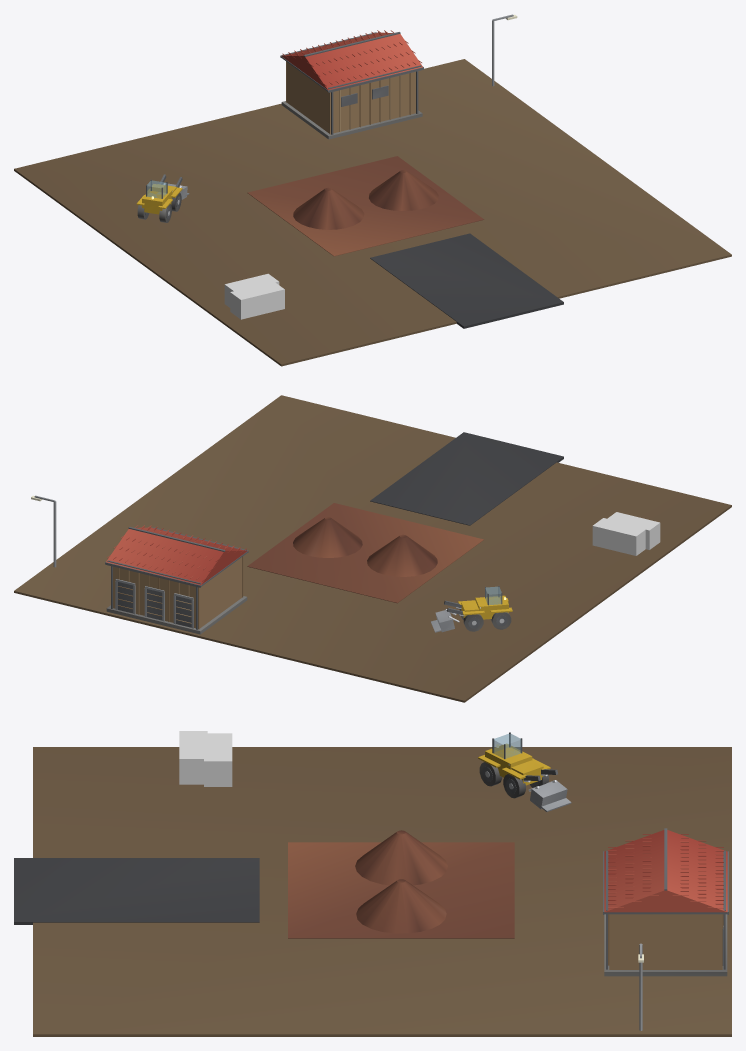
Rendered from Depot_P1.fbx.
3 renders of one model, top to bottom at view 1: azimuth 30°, elevation 25°; view 2: azimuth 150°, elevation 25°; view 3: azimuth 270°, elevation 25°, orthographic. The views are drawn at different scales.
Parts seen in each view (by area): view 1: Depot.Yard, Depot.Shed1, Depot.Containers, Depot.Pile0, Depot.Pile1, Depot.Loader; view 2: Depot.Yard, Depot.Shed1, Depot.Containers, Depot.Loader, Depot.Pile0, Depot.Pile1; view 3: Depot.Yard, Depot.Shed1, Depot.Loader, Depot.Pile0, Depot.Pile1, Depot.Containers.
Boxes of the visible parts, box(x1,y1,x2,y2) form: Depot.Yard: box(14, 59, 731, 366); Depot.Shed1: box(280, 30, 423, 139); Depot.Containers: box(224, 273, 284, 319); Depot.Pile0: box(293, 187, 364, 229); Depot.Pile1: box(369, 170, 438, 210); Depot.Loader: box(136, 174, 189, 222); Depot.Yard: box(14, 395, 731, 702); Depot.Shed1: box(105, 525, 248, 634); Depot.Containers: box(592, 512, 660, 555); Depot.Loader: box(431, 586, 512, 632); Depot.Pile0: box(367, 534, 437, 576); Depot.Pile1: box(293, 517, 362, 557); Depot.Yard: box(14, 747, 731, 1036); Depot.Shed1: box(603, 828, 728, 976); Depot.Loader: box(478, 732, 571, 811); Depot.Pile0: box(355, 830, 447, 885); Depot.Pile1: box(356, 879, 446, 933); Depot.Containers: box(179, 731, 232, 786).
Bounding box in the file's own units: 7469 × 1055 × 7600.
